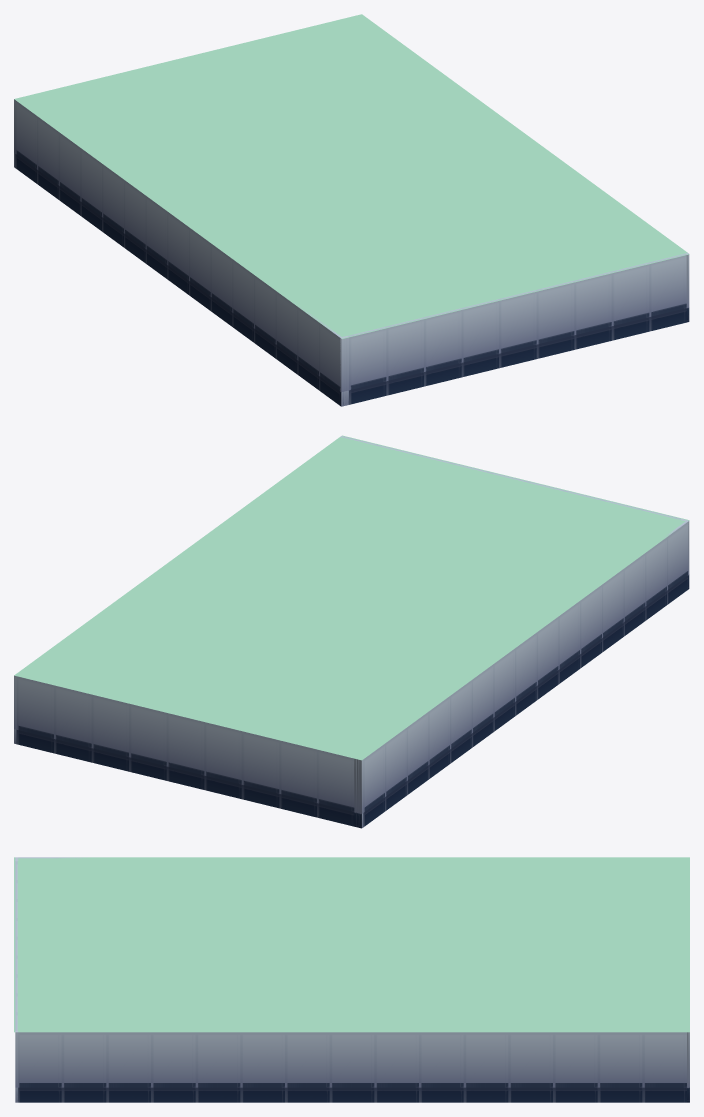
Rendered from engine_origin_2.fbx.
The picture shows the model from 3 angles, top to bottom: view 1: azimuth 30°, elevation 25°; view 2: azimuth 150°, elevation 25°; view 3: azimuth 270°, elevation 25°; orthographic projection. The views are drawn at different scales.
Visible parts, largest first — view 1: test_celling_1.001, main_low.002, main_low.011; view 2: test_celling_1.001, main_low.015, main_low.011, main_low.002; view 3: test_celling_1.001, main_low.019, main_low.002.
Boxes of the visible parts, x1=… form: test_celling_1.001: x1=14, y1=14, x2=689, y2=338; main_low.002: x1=348, y1=253, x2=686, y2=404; main_low.011: x1=15, y1=100, x2=341, y2=405; test_celling_1.001: x1=14, y1=435, x2=689, y2=760; main_low.015: x1=16, y1=676, x2=354, y2=826; main_low.011: x1=363, y1=521, x2=688, y2=827; main_low.002: x1=343, y1=436, x2=681, y2=519; test_celling_1.001: x1=14, y1=857, x2=689, y2=1032; main_low.019: x1=18, y1=1032, x2=686, y2=1102; main_low.002: x1=15, y1=861, x2=17, y2=1030.
Size of the model in its own units: 13900 by 2614 by 22700.
